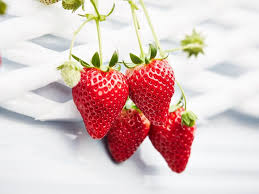ripe: (72, 62, 130, 139), (123, 53, 177, 129), (146, 103, 195, 178), (103, 98, 152, 167)
unripe: (57, 60, 82, 90)
